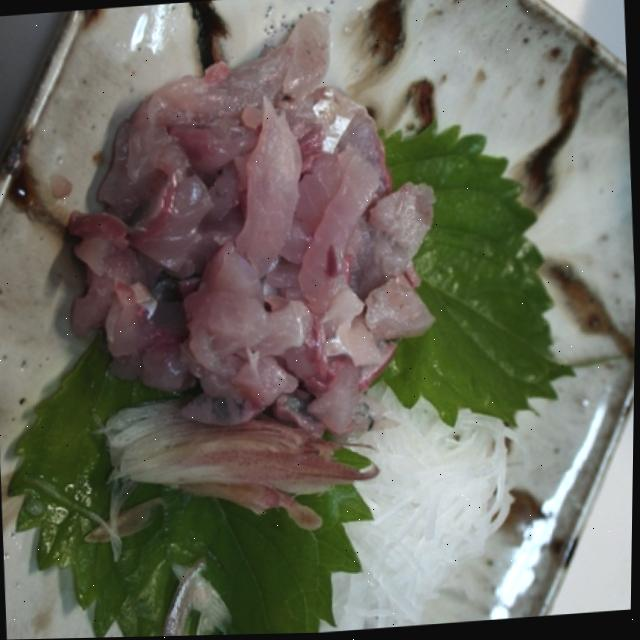熟制海鲜: (0, 163, 511, 623)
